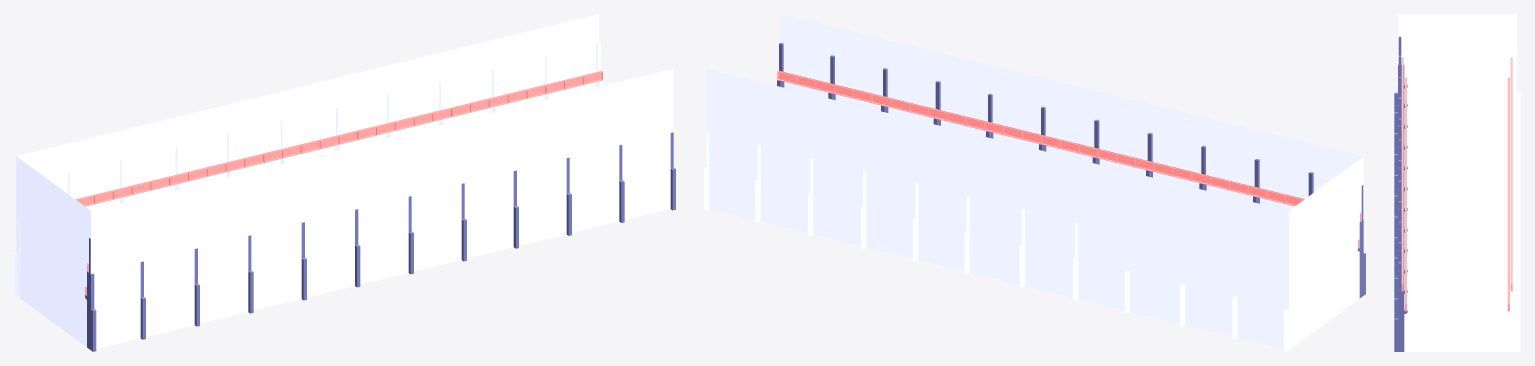
File: 1p_3bay.glb
The picture shows the model from 3 angles, left to right: view 1: azimuth 30°, elevation 25°; view 2: azimuth 150°, elevation 25°; view 3: azimuth 270°, elevation 25°; orthographic projection. The views are drawn at different scales.
Parts seen in each view (by area): view 1: 1P_3Bay, 3_Bay_Rail01, 3_Bay_Pillar02, 3_Bay_Pillar01, 3_Bay_Rail01_s; view 2: 1P_3Bay, 3_Bay_Rail03, 3_Bay_Pillar01, 3_Bay_Pillar02, 3_Bay_Rail01_s; view 3: 1P_3Bay, 3_Bay_Pillar02, 3_Bay_Pillar01, 3_Bay_Rail01, 3_Bay_Rail02, 3_Bay_Rail03, 3_Bay_Rail04, 3_Bay_Rail01_s.
Boxes of the visible parts, x1,y1,x2,y2 form: 1P_3Bay: (16, 14, 673, 348); 3_Bay_Rail01: (76, 71, 602, 206); 3_Bay_Pillar02: (85, 132, 675, 351); 3_Bay_Pillar01: (14, 42, 602, 297); 3_Bay_Rail01_s: (75, 71, 601, 199); 1P_3Bay: (706, 14, 1363, 348); 3_Bay_Rail03: (777, 70, 1361, 221); 3_Bay_Pillar01: (704, 132, 1295, 351); 3_Bay_Pillar02: (777, 42, 1365, 298); 3_Bay_Rail01_s: (779, 71, 1304, 199); 1P_3Bay: (1398, 14, 1516, 351); 3_Bay_Pillar02: (1394, 36, 1407, 351); 3_Bay_Pillar01: (1507, 36, 1520, 351); 3_Bay_Rail01: (1510, 57, 1512, 291); 3_Bay_Rail02: (1507, 77, 1509, 311); 3_Bay_Rail03: (1401, 57, 1403, 291); 3_Bay_Rail04: (1405, 77, 1406, 311); 3_Bay_Rail01_s: (1402, 59, 1511, 283).
Bounding box in the file's own units: 180 × 41.18 × 42.28.
